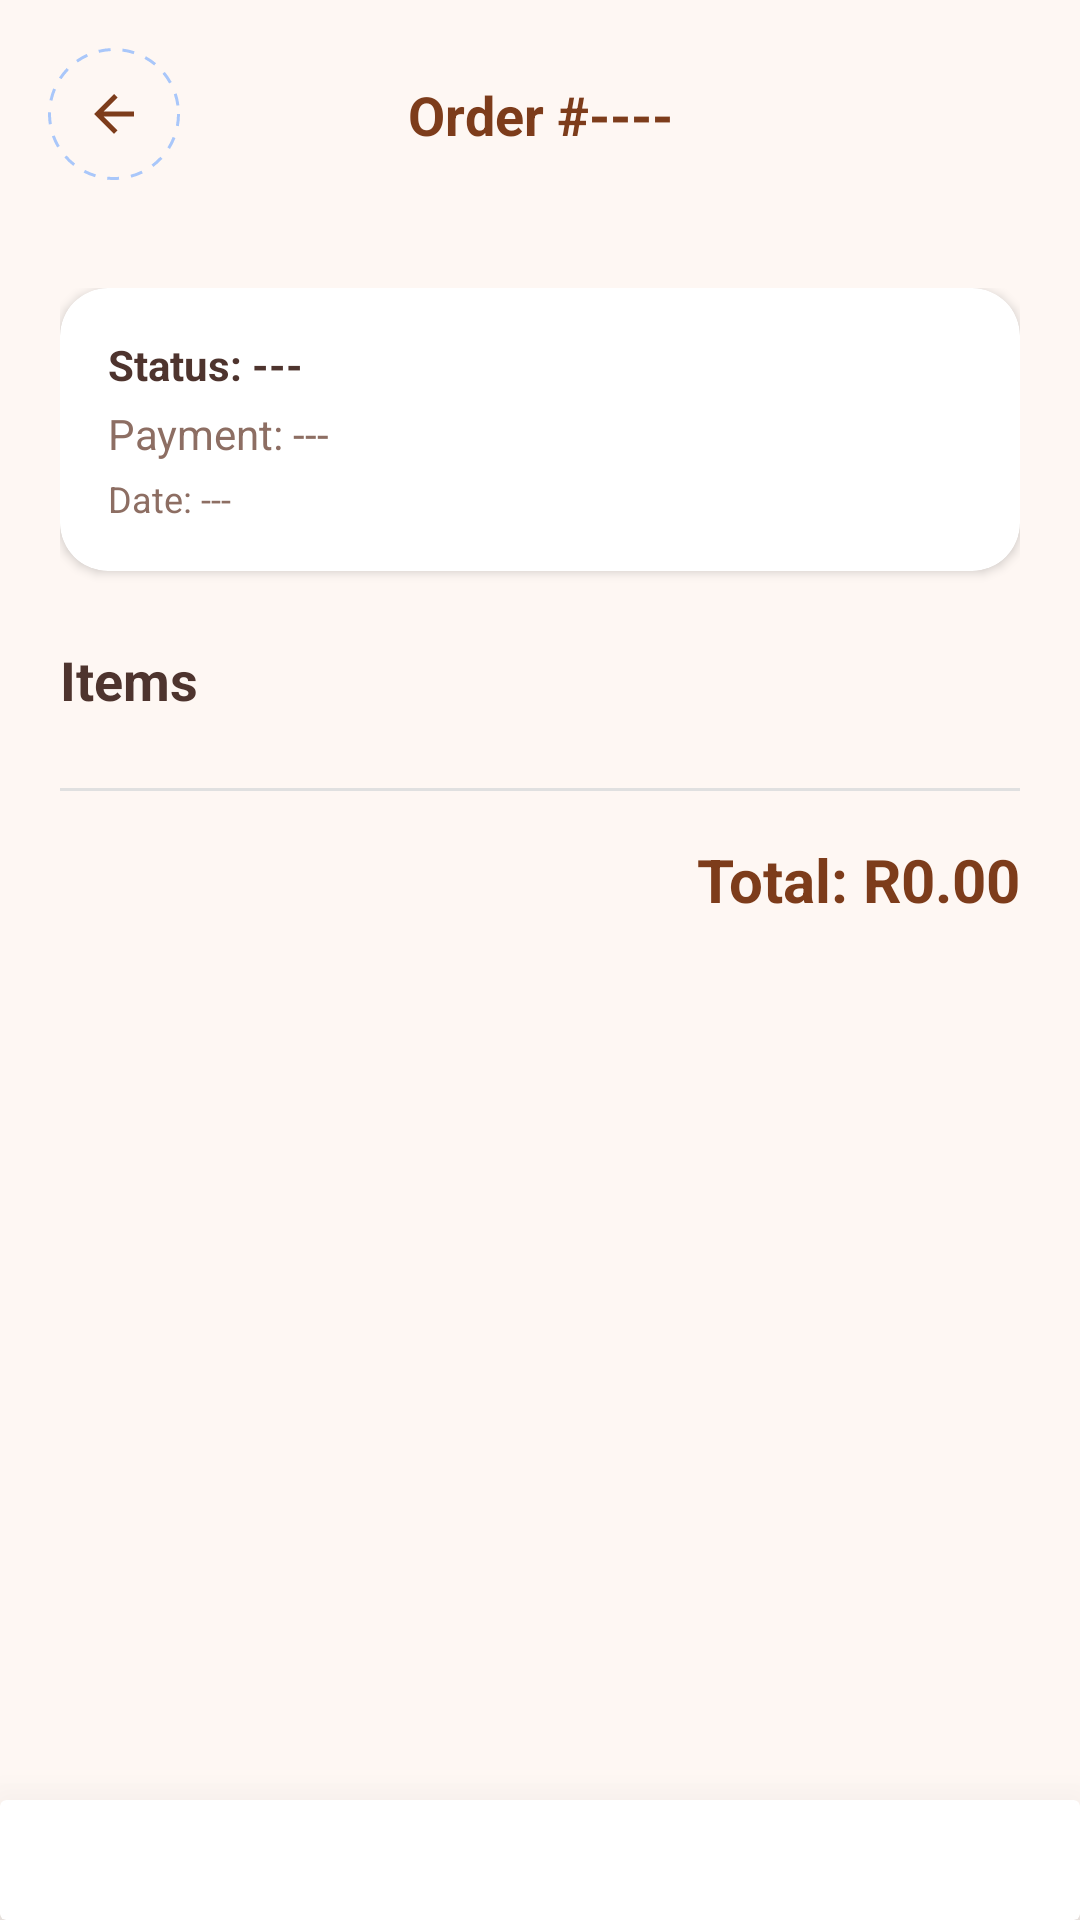

Where to tap for icons on this 1080*1920 app screen, as point (x, y):
back: point (114, 114)
